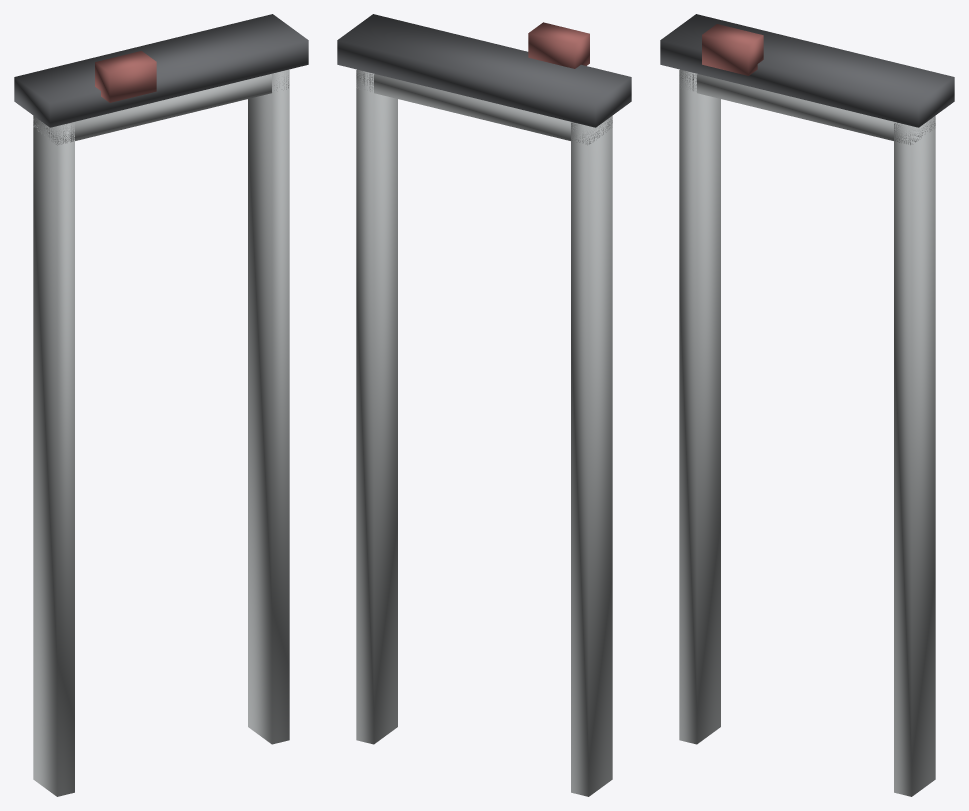
File: doorway_fire_rated_w76_h240_d16.glb
3 renders of one model, left to right at view 1: azimuth 30°, elevation 25°; view 2: azimuth 150°, elevation 25°; view 3: azimuth 330°, elevation 25°, orthographic.
Parts seen in each view (by area): view 1: world; view 2: world; view 3: world.
Boxes of the visible parts, x1=… form: world: x1=14, y1=14, x2=308, y2=796; world: x1=337, y1=14, x2=631, y2=796; world: x1=660, y1=14, x2=954, y2=796.
Size of the model in its own units: 0.9968 by 2.67 by 0.3.
